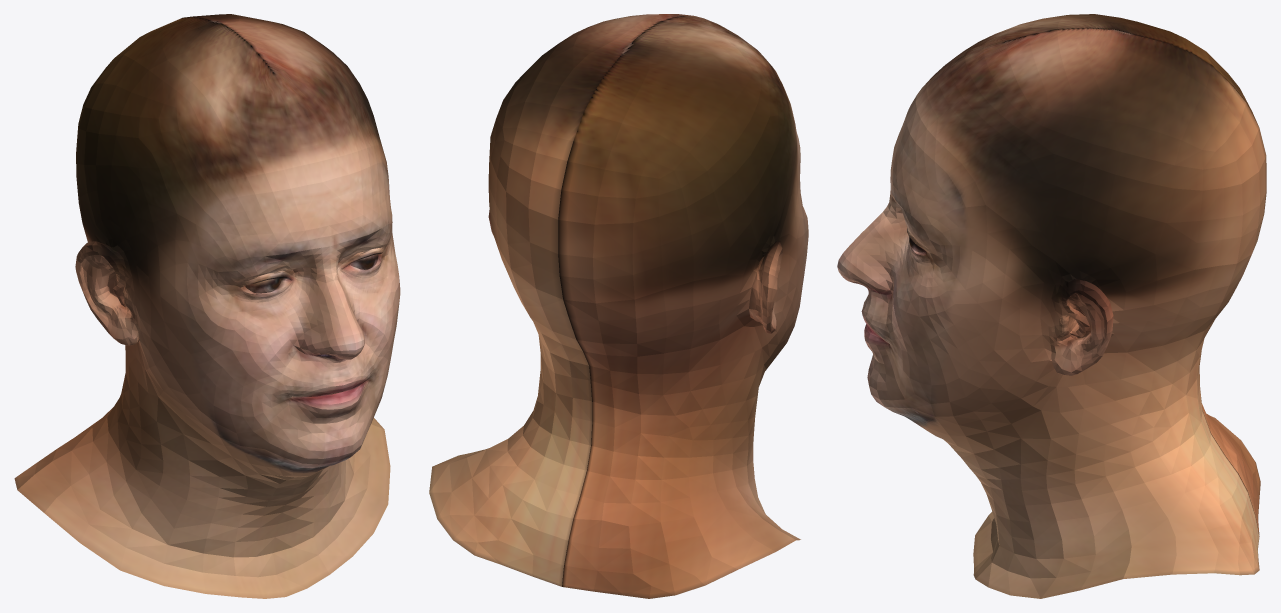
File: chms.fbx
3 renders of one model, left to right at view 1: azimuth 30°, elevation 25°; view 2: azimuth 150°, elevation 25°; view 3: azimuth 270°, elevation 25°, orthographic. The views are drawn at different scales.
Parts seen in each view (by area): view 1: chms; view 2: chms; view 3: chms.
Boxes of the visible parts, x1=… form: chms: x1=14, y1=14, x2=400, y2=598; chms: x1=429, y1=14, x2=808, y2=598; chms: x1=837, y1=14, x2=1266, y2=598.
Size of the model in its own units: 22.05 by 32.09 by 23.08.
Materials: 1 (1 with a texture image).
